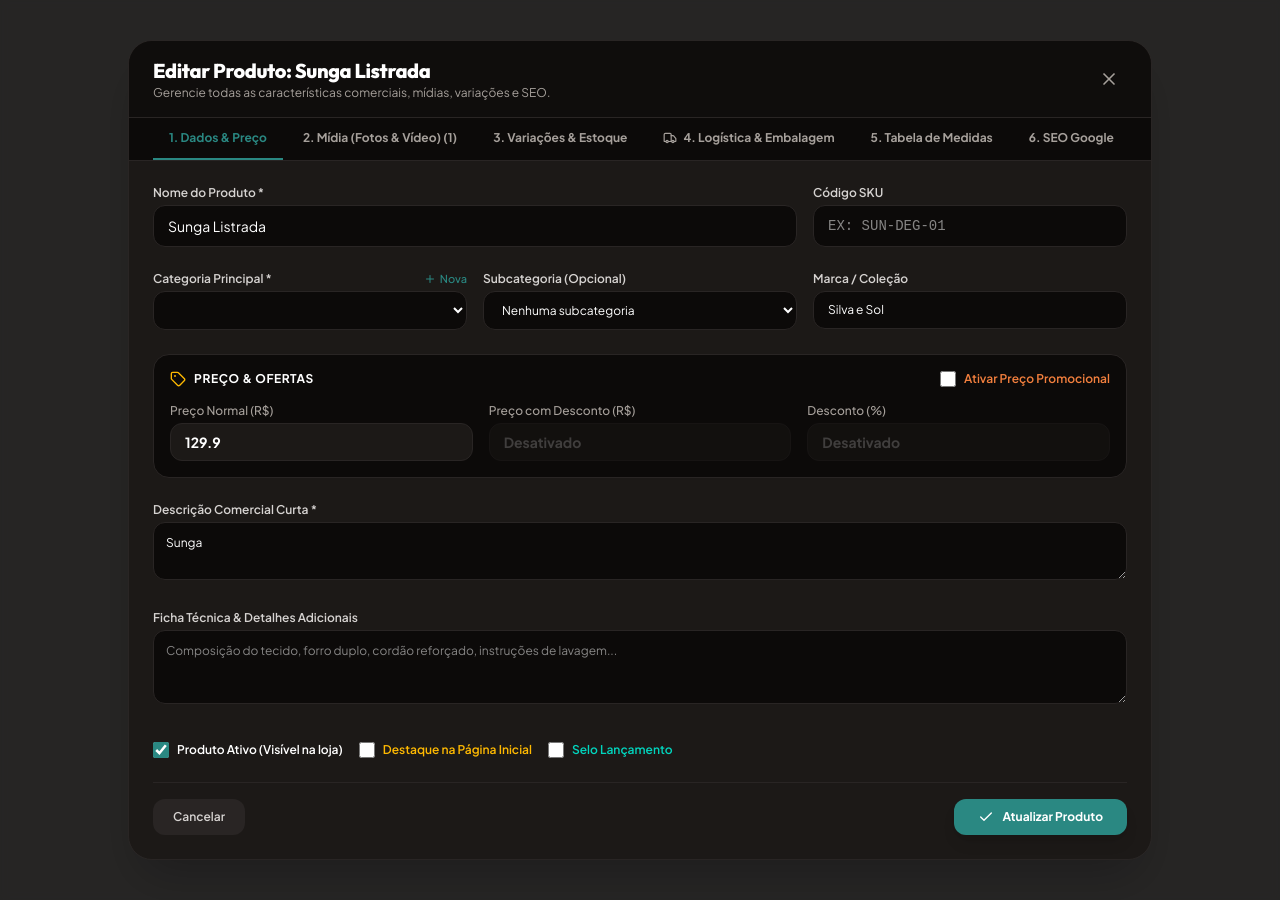
Test: AdminProductModal - desconto em % › % inválido ao salvar mostra o aviso e marca o campo
The image size is (1280, 900).
Click the checkbox labelled "Ativar Preço Promocional" at (948, 379), box [940,371,956,387]
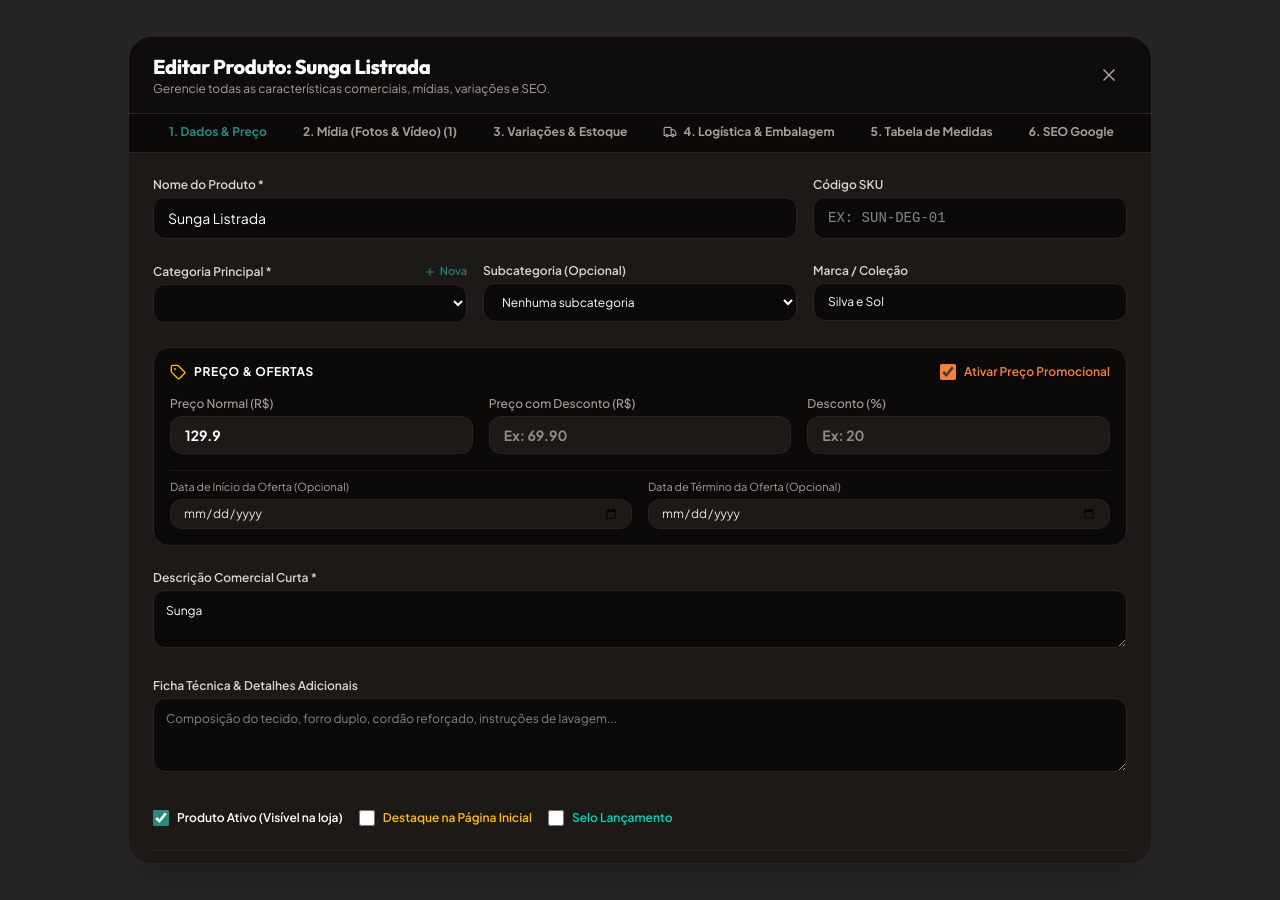
Type "0" into the field labelled "Desconto (%)" at (959, 435), box [807,416,1110,454]
(page scrolled)
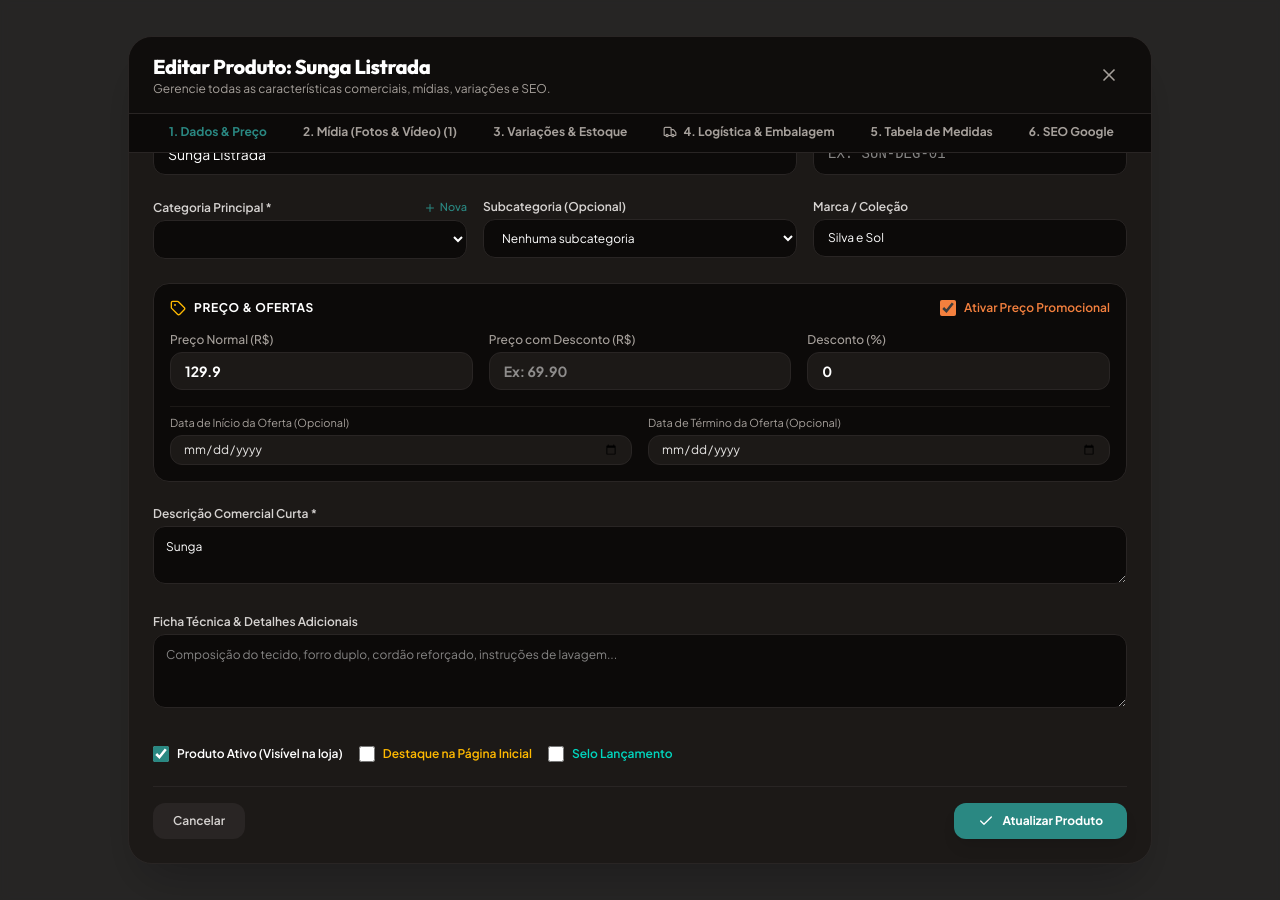
Click the button "Atualizar Produto" at (1041, 821), box [954,803,1127,839]
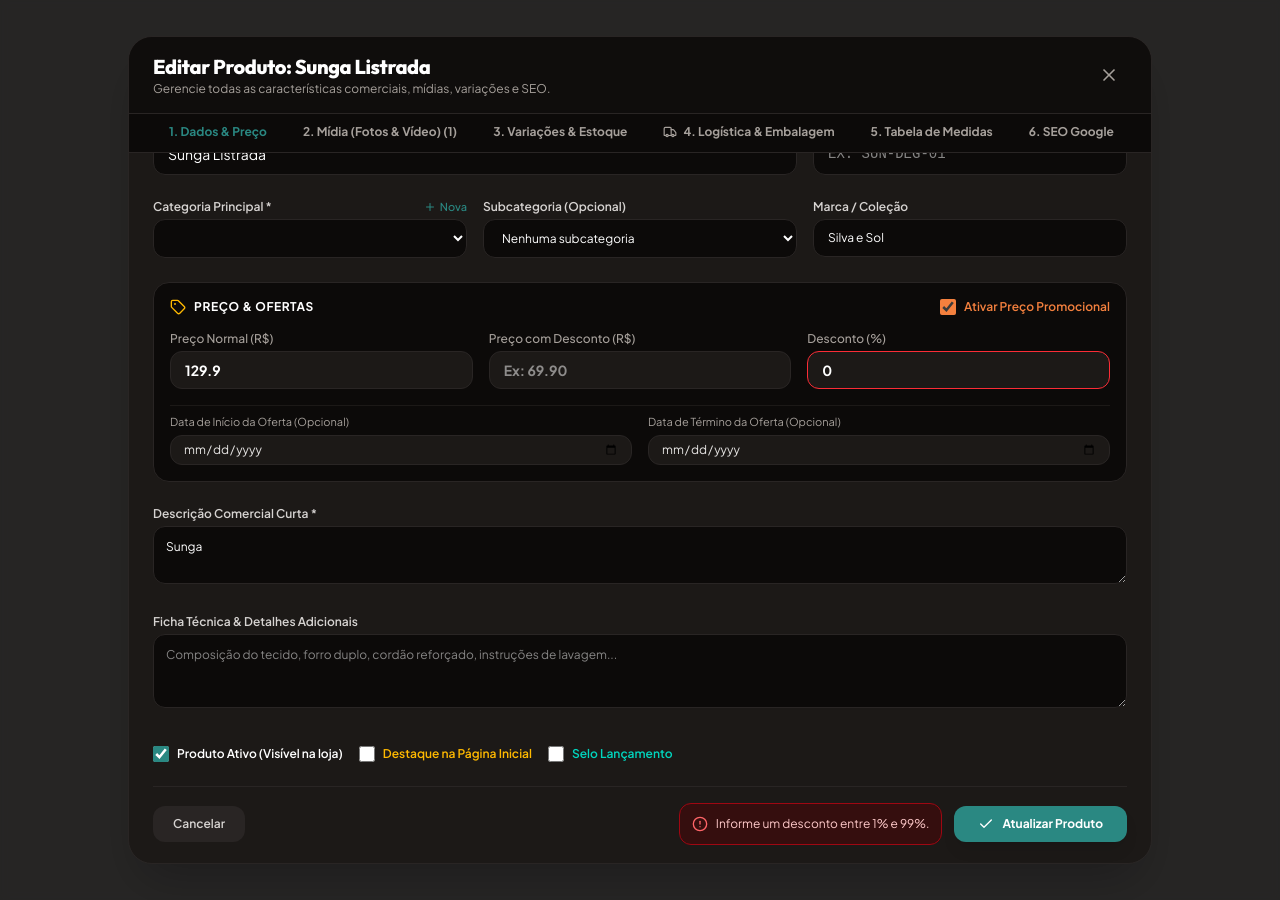
Check: the message reads "Informe um desconto entre 1% e 99%.", box [716,816,929,831]
